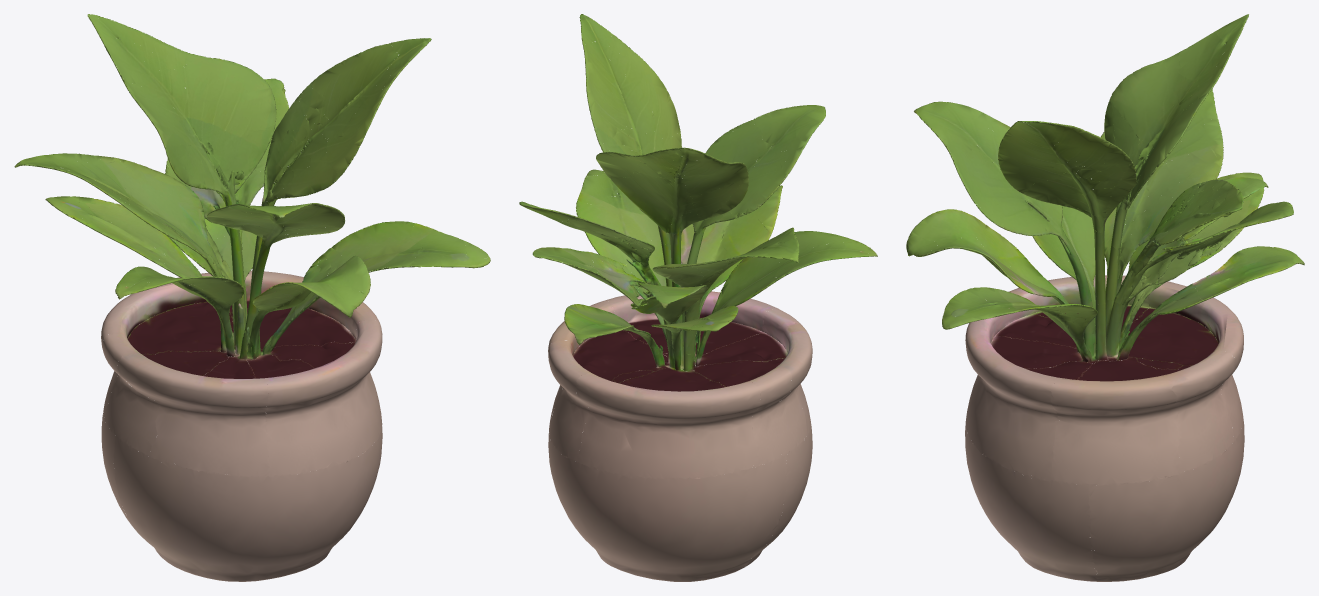
3 views of the same model, side by side, from view 1: azimuth 30°, elevation 25°; view 2: azimuth 150°, elevation 25°; view 3: azimuth 270°, elevation 25° (orthographic). The views are drawn at different scales.
Parts seen in each view (by area): view 1: tripo_node_ffbe188d-2acd-4fc2-9e71-00f02d42472a; view 2: tripo_node_ffbe188d-2acd-4fc2-9e71-00f02d42472a; view 3: tripo_node_ffbe188d-2acd-4fc2-9e71-00f02d42472a.
Boxes of the visible parts, left/top/right/bottom form: tripo_node_ffbe188d-2acd-4fc2-9e71-00f02d42472a: left=14, top=14, right=490, bottom=581; tripo_node_ffbe188d-2acd-4fc2-9e71-00f02d42472a: left=519, top=14, right=877, bottom=581; tripo_node_ffbe188d-2acd-4fc2-9e71-00f02d42472a: left=906, top=14, right=1304, bottom=581.
Size of the model in its own units: 0.7221 by 1 by 0.7252.
Materials: 1 (1 with a texture image).
